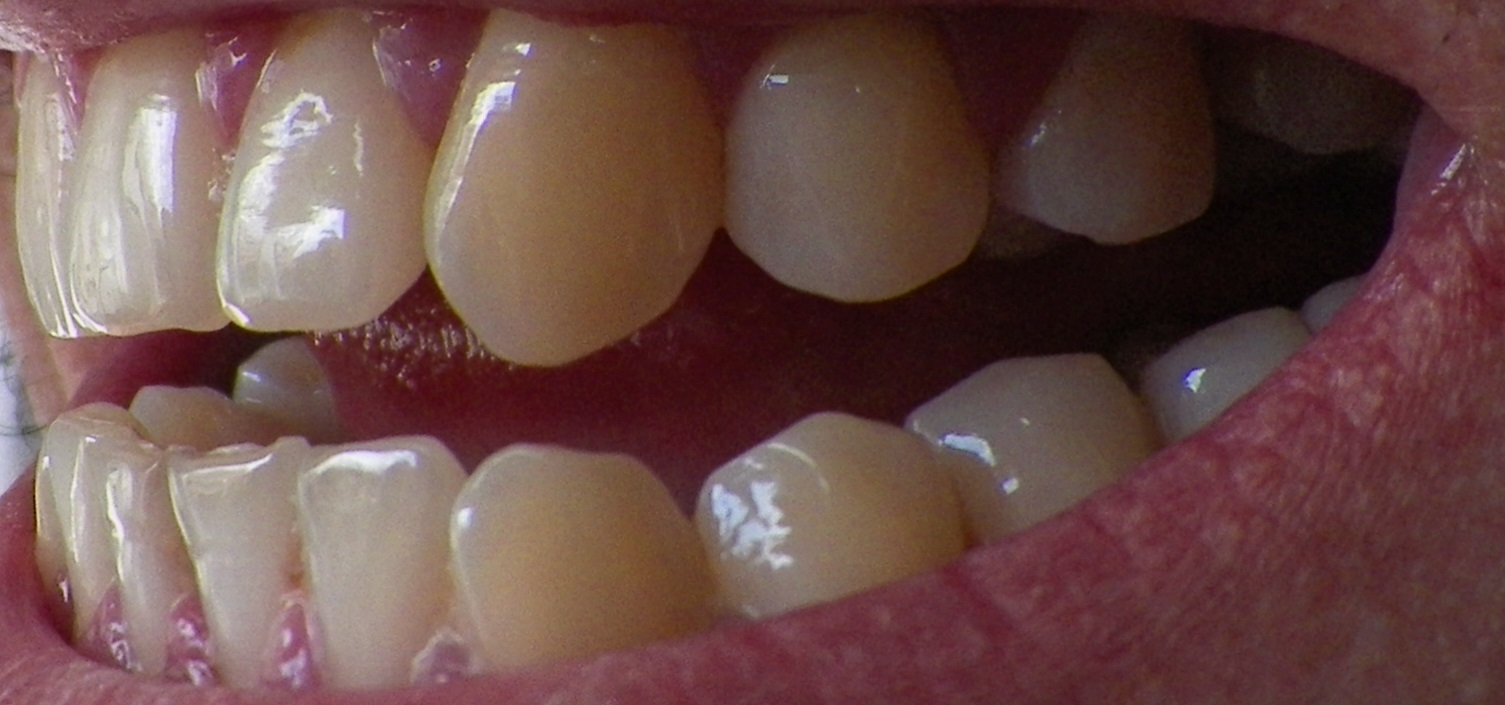boca: (7, 17, 1332, 689)
